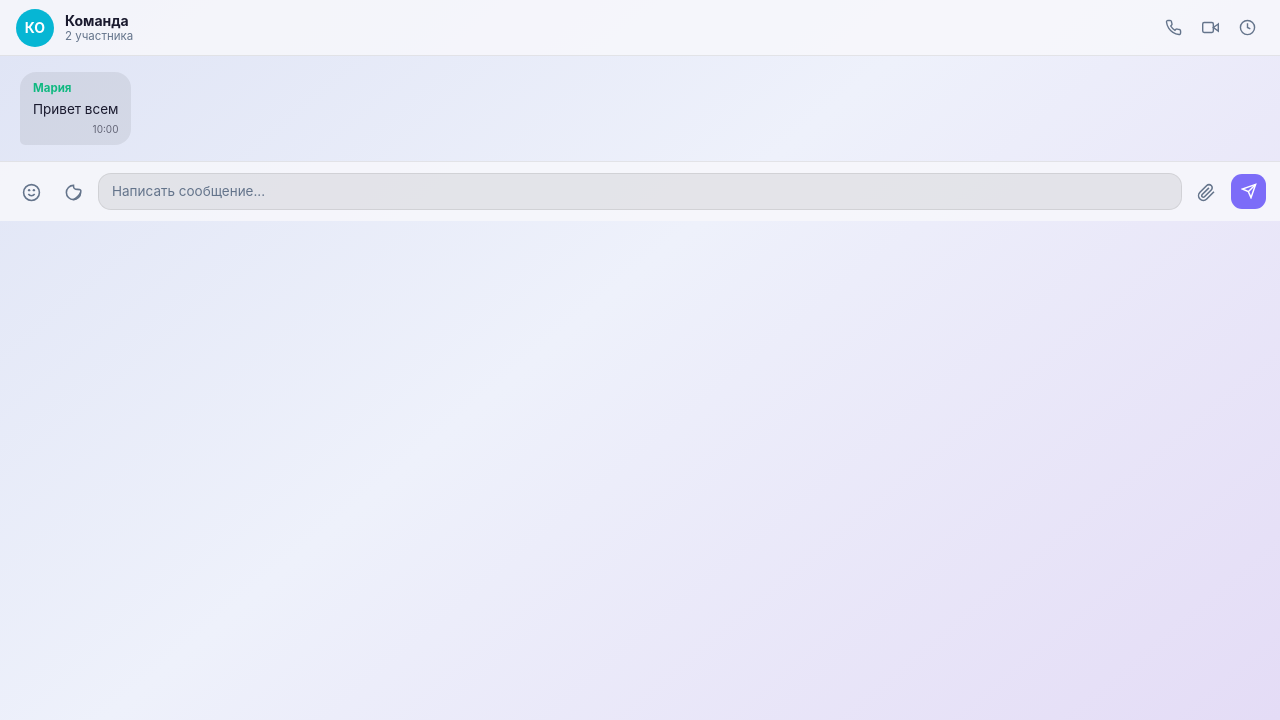
Scenario: the chat header › opens the chat-info panel when the title is clicked
Click the text "Команда".
click(97, 20)  # box [65,12,129,29]
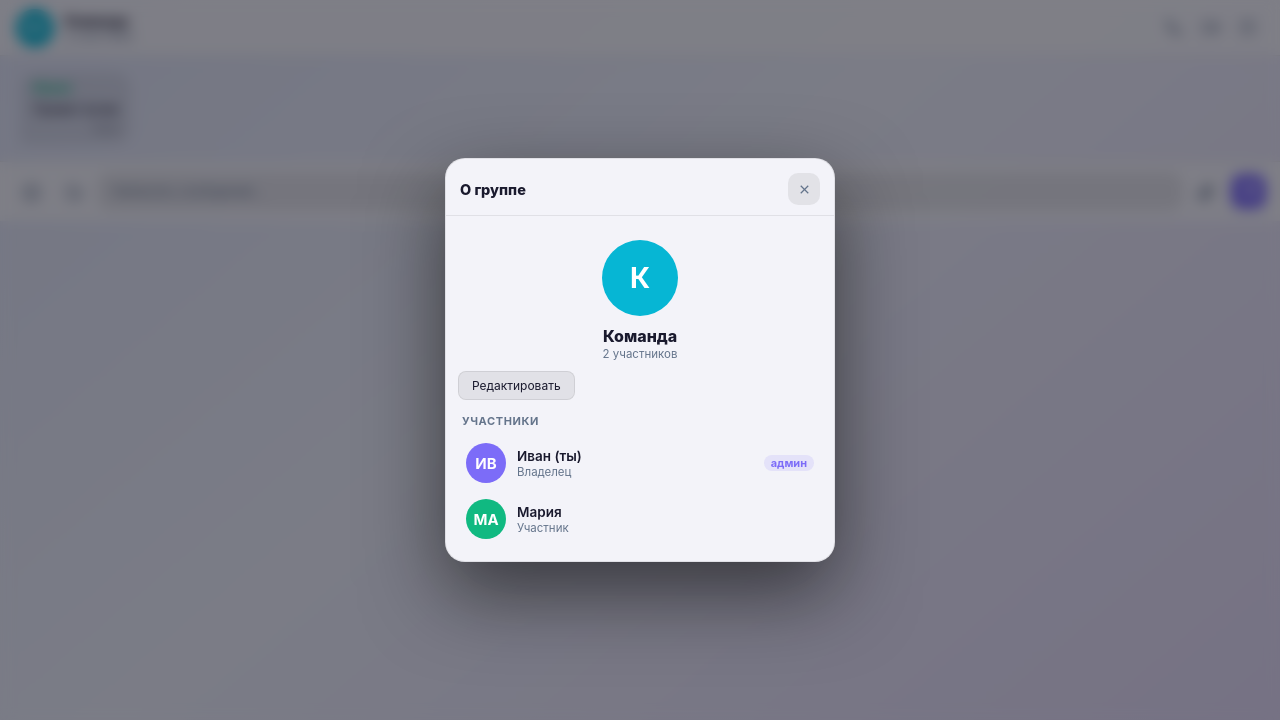
expect the text "Команда" is shown 2 times: met, box [65,12,129,29]; [603,326,677,346]
expect the text "Участники" is shown: met, box [462,414,539,428]
